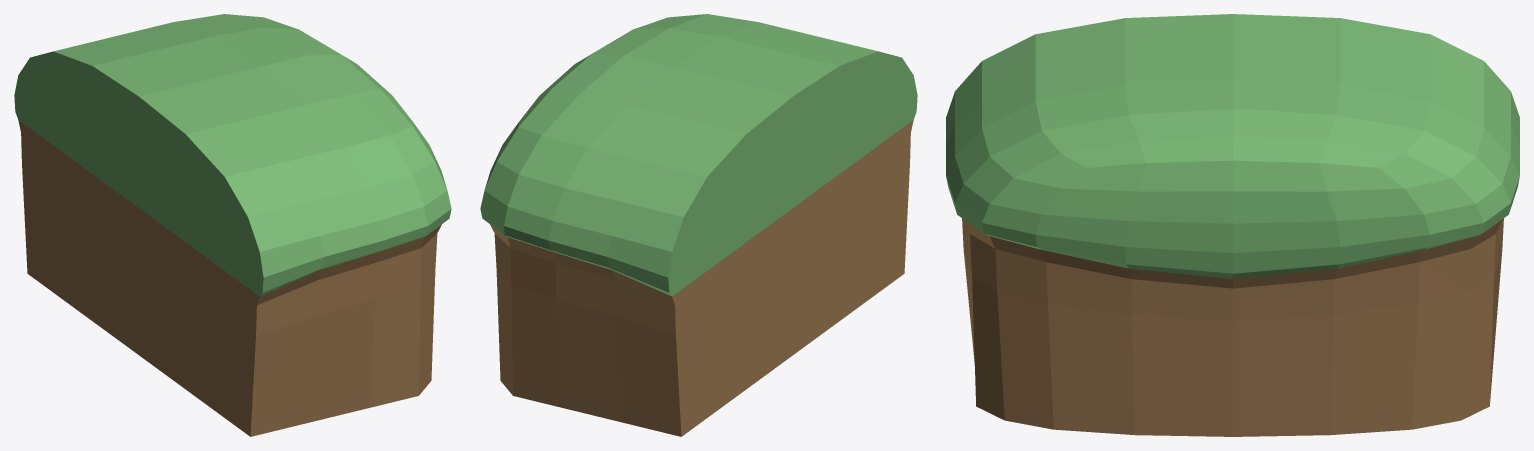
File: Platform_TopRight.glb
3 views of the same model, side by side, from view 1: azimuth 30°, elevation 25°; view 2: azimuth 150°, elevation 25°; view 3: azimuth 270°, elevation 25° (orthographic). The views are drawn at different scales.
Visible parts, largest first — view 1: Platform_TopRight; view 2: Platform_TopRight; view 3: Platform_TopRight.
Part boxes in pixels (x1=…): Platform_TopRight: x1=14, y1=14, x2=451, y2=436; Platform_TopRight: x1=480, y1=14, x2=917, y2=436; Platform_TopRight: x1=946, y1=14, x2=1519, y2=436.
Size of the model in its own units: 1.9 by 2 by 3.49.
